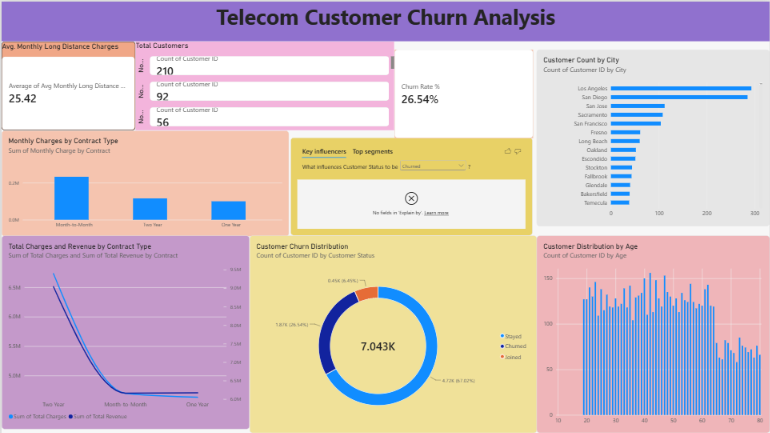

The page's visual inventory and layout, read from the dashboard file:
{"tool":"powerbi","page":{"name":"Page 1","canvas":[1920,1080],"ordinal":0},"visuals":[{"type":"cardVisual","title":"Avg. Monthly Long Distance Charges","fields":{"Data":["Avg(telecom_customer_churn.Avg Monthly Long Distance Charges)"]},"box":[0,99.5,334.8,221.9],"z":0},{"type":"clusteredColumnChart","title":"Monthly Charges by Contract Type","fields":{"Category":["telecom_customer_churn.Contract"],"Y":["Sum(telecom_customer_churn.Monthly Charge)"]},"box":[0,321.4,718.6,265.1],"z":1000},{"type":"lineChart","title":"Total Charges and Revenue by Contract Type","fields":{"Category":["telecom_customer_churn.Contract"],"Y":["Sum(telecom_customer_churn.Total Charges)"],"Y2":["Sum(telecom_customer_churn.Total Revenue)"]},"box":[0,585.4,619.9,484],"z":2000},{"type":"donutChart","title":"Customer Churn Distribution","fields":{"Category":["telecom_customer_churn.Customer Status"],"Y":["Count(telecom_customer_churn.Customer ID)"]},"box":[619.2,586,718.6,493.6],"z":3000},{"type":"clusteredBarChart","title":"Customer Count by City","fields":{"Category":["telecom_customer_churn.City"],"Y":["Count(telecom_customer_churn.Customer ID)"]},"box":[1337.3,120.5,582.6,441.3],"z":4000},{"type":"clusteredColumnChart","title":"Customer Distribution by Age","fields":{"Category":["telecom_customer_churn.Age"],"Y":["Count(telecom_customer_churn.Customer ID)"]},"box":[1337.3,585.4,583.5,493.6],"z":5000},{"type":"textbox","box":[1770,0,150,541],"z":6000},{"type":"textbox","box":[1770,563,150,517],"z":7000},{"type":"textbox","box":[0,0,1920.4,99.4],"z":14000},{"type":"cardVisual","title":"Total Customers","fields":{"Data":["Count(telecom_customer_churn.Customer ID)"],"Rows":["telecom_customer_churn.Phone Service","telecom_customer_churn.Streaming Music","telecom_customer_churn.Streaming TV","telecom_customer_churn.Device Protection Plan"]},"box":[334.8,99.5,646.6,221.9],"z":14001},{"type":"keyDriversVisual","fields":{"Target":["telecom_customer_churn.Customer Status"]},"box":[723.2,340.5,604.5,244.9],"z":14002},{"type":"cardVisual","fields":{"Data":["telecom_customer_churn.Churn Rate %"]},"box":[981.4,120.5,346.1,221.5],"z":14003}]}

Visuals, with their boxes in screenshot pixels (x1, y1, x2, y2), scaled from the page's 1920x1080 canvas onto the 770x433 screenshot:
"Avg. Monthly Long Distance Charges" cardVisual: box=[0, 40, 134, 129]
"Monthly Charges by Contract Type" clusteredColumnChart: box=[0, 129, 288, 235]
"Total Charges and Revenue by Contract Type" lineChart: box=[0, 235, 249, 429]
"Customer Churn Distribution" donutChart: box=[248, 235, 537, 432]
"Customer Count by City" clusteredBarChart: box=[536, 48, 769, 225]
"Customer Distribution by Age" clusteredColumnChart: box=[536, 235, 769, 432]
textbox: box=[710, 0, 769, 217]
textbox: box=[710, 226, 769, 432]
textbox: box=[0, 0, 769, 40]
"Total Customers" cardVisual: box=[134, 40, 394, 129]
keyDriversVisual - telecom_customer_churn.Customer Status: box=[290, 137, 532, 235]
cardVisual - telecom_customer_churn.Churn Rate %: box=[394, 48, 532, 137]
